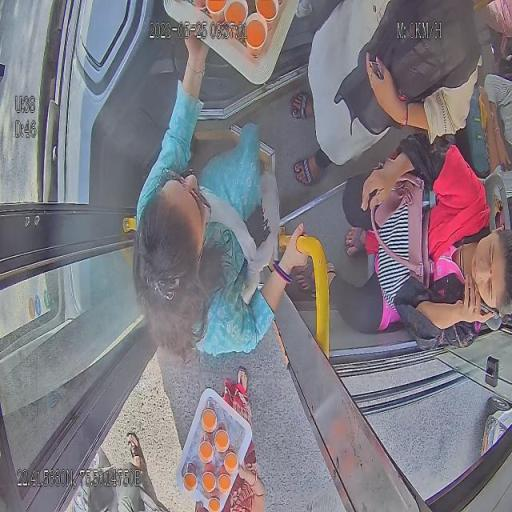persona: (132, 17, 310, 363), (297, 132, 511, 352), (290, 0, 484, 186), (176, 367, 266, 511), (97, 430, 152, 512)
